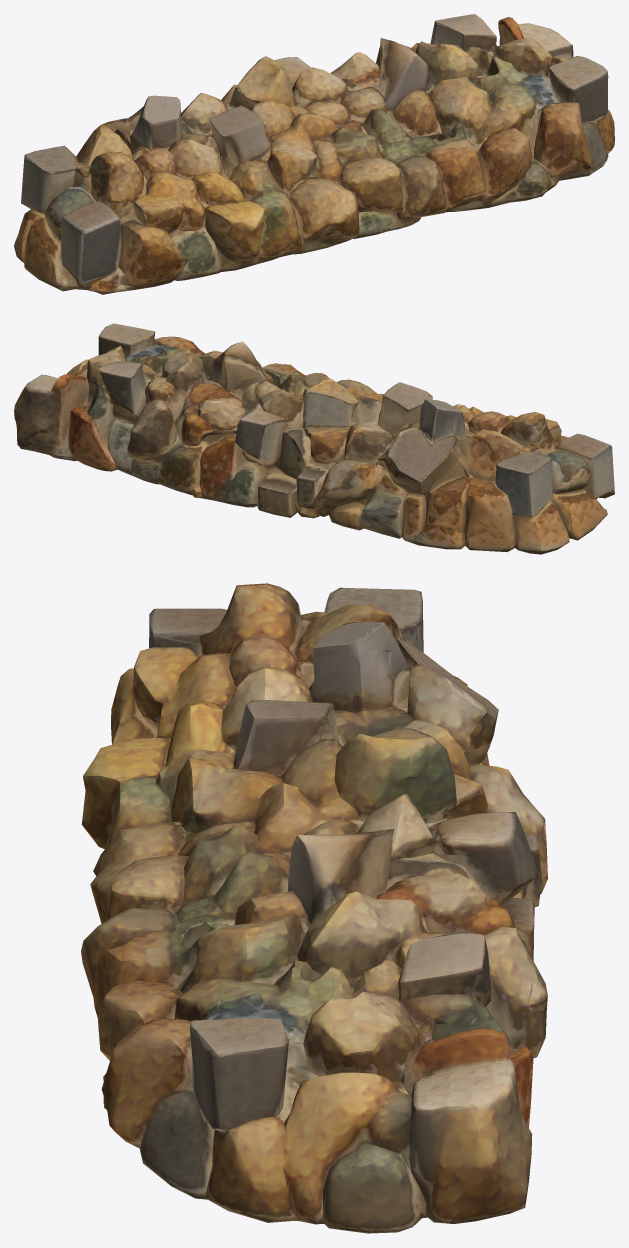
File: hb_breakwater.glb
3 views of the same model, one above another, from view 1: azimuth 30°, elevation 25°; view 2: azimuth 150°, elevation 25°; view 3: azimuth 270°, elevation 25° (orthographic). The views are drawn at different scales.
Parts seen in each view (by area): view 1: geometry_0; view 2: geometry_0; view 3: geometry_0.
Boxes of the visible parts, x1,y1,x2,y2 form: geometry_0: (14,14,614,294); geometry_0: (14,323,614,554); geometry_0: (81,583,547,1233).
Bounding box in the file's own units: 20 × 4.25 × 7.68.
Materials: 1 (1 with a texture image).
